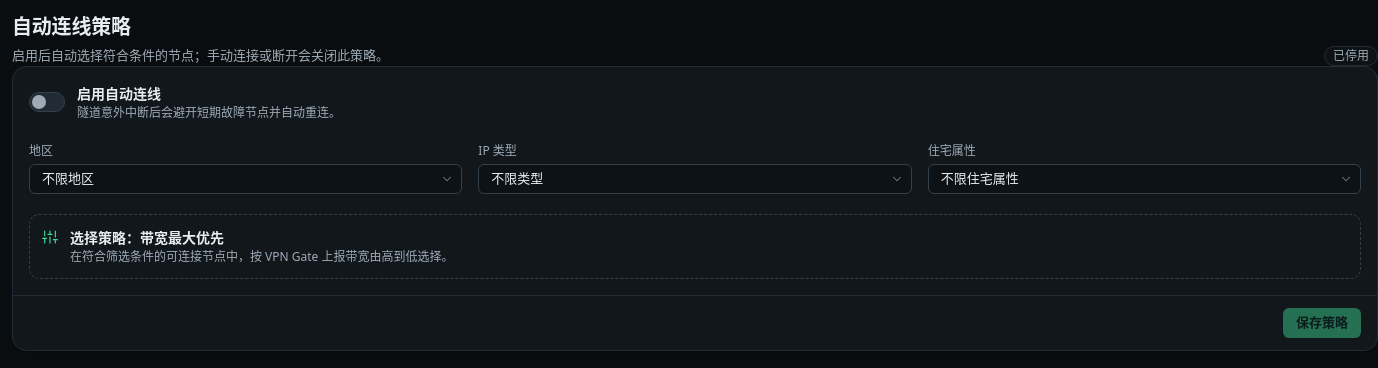
Test: PolicyView › keeps saving disabled until the draft differs from the stored policy
This screenshot has width=1378, height=368.
Check: the button "保存策略" is disabled, box [1283,308,1361,338]
Click the switch labelled "启用自动连线 隧道意外中断后会避开短期故障节点并自动重连。" at [185, 102], box [29,84,341,120]
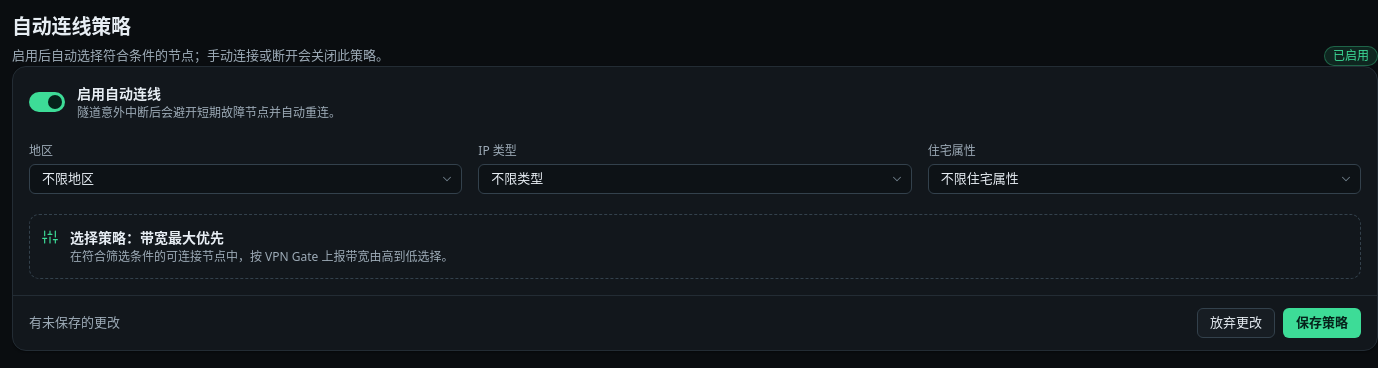
Check: the button "保存策略" is enabled, box [1283,308,1361,338]
Check: the text "有未保存的更改" is shown, box [29,313,120,332]
